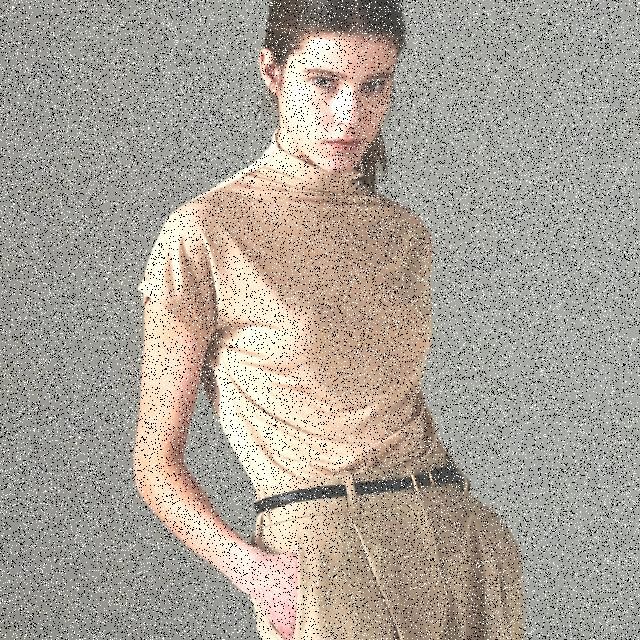Blouse_deep: (140, 127, 459, 490)
